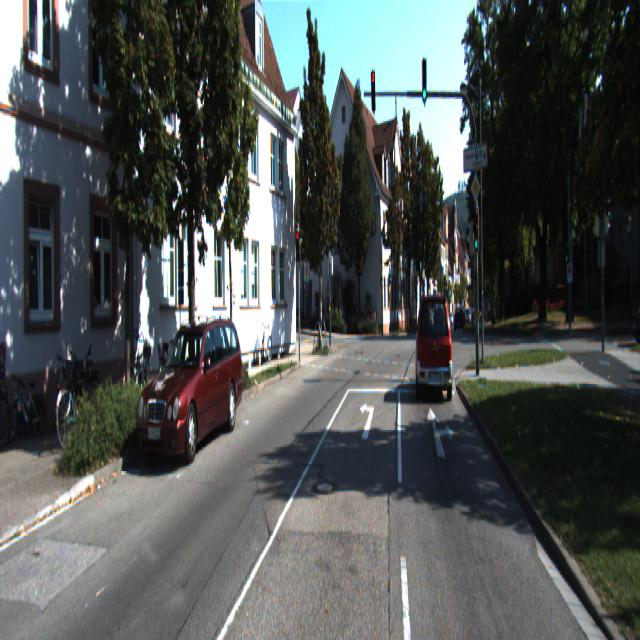Car: (136, 318, 244, 468), (415, 294, 453, 402), (630, 280, 640, 346)
